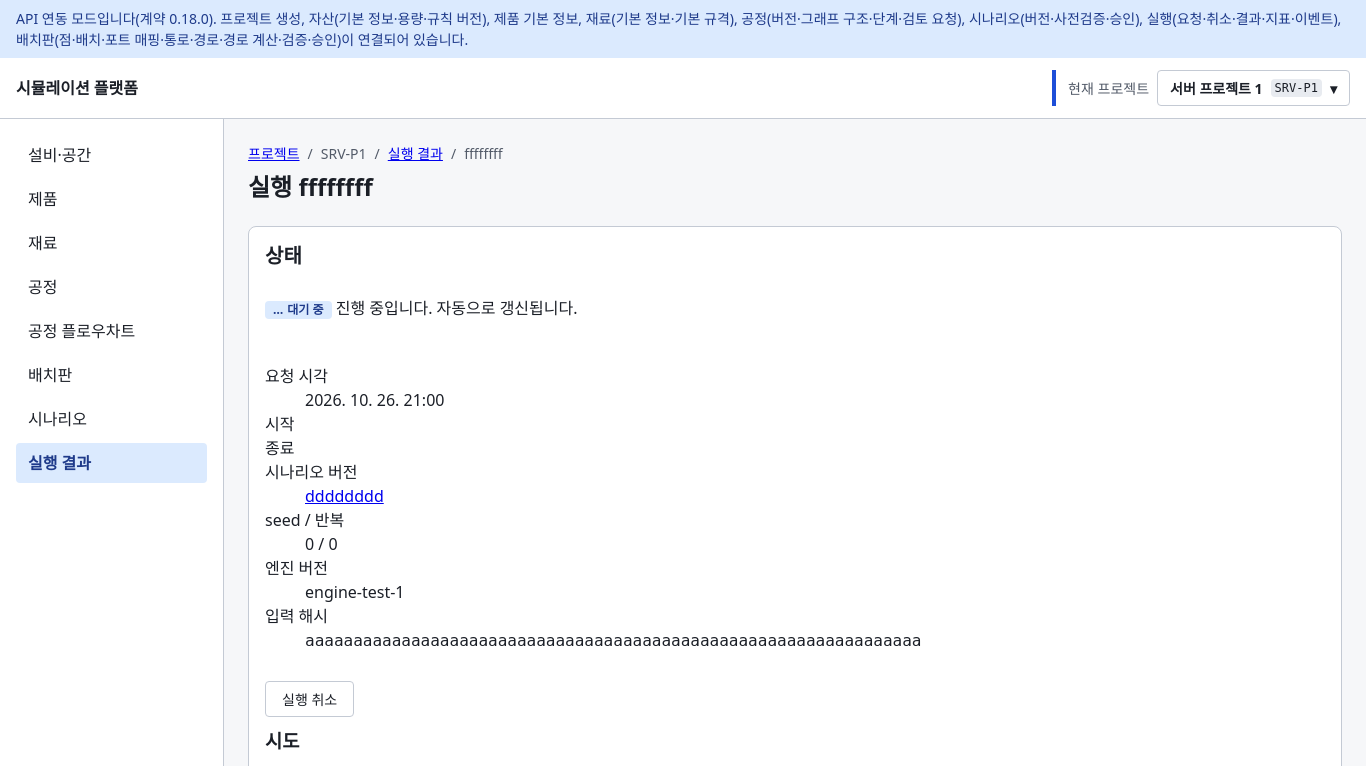
Test: API 모드: 실행 취소 › 이미 끝난 실행을 취소하려 하면(409) 서버 상태로 안내한다
Step 1. Click the button "실행 취소" → (310, 699), box [265,681,354,717]
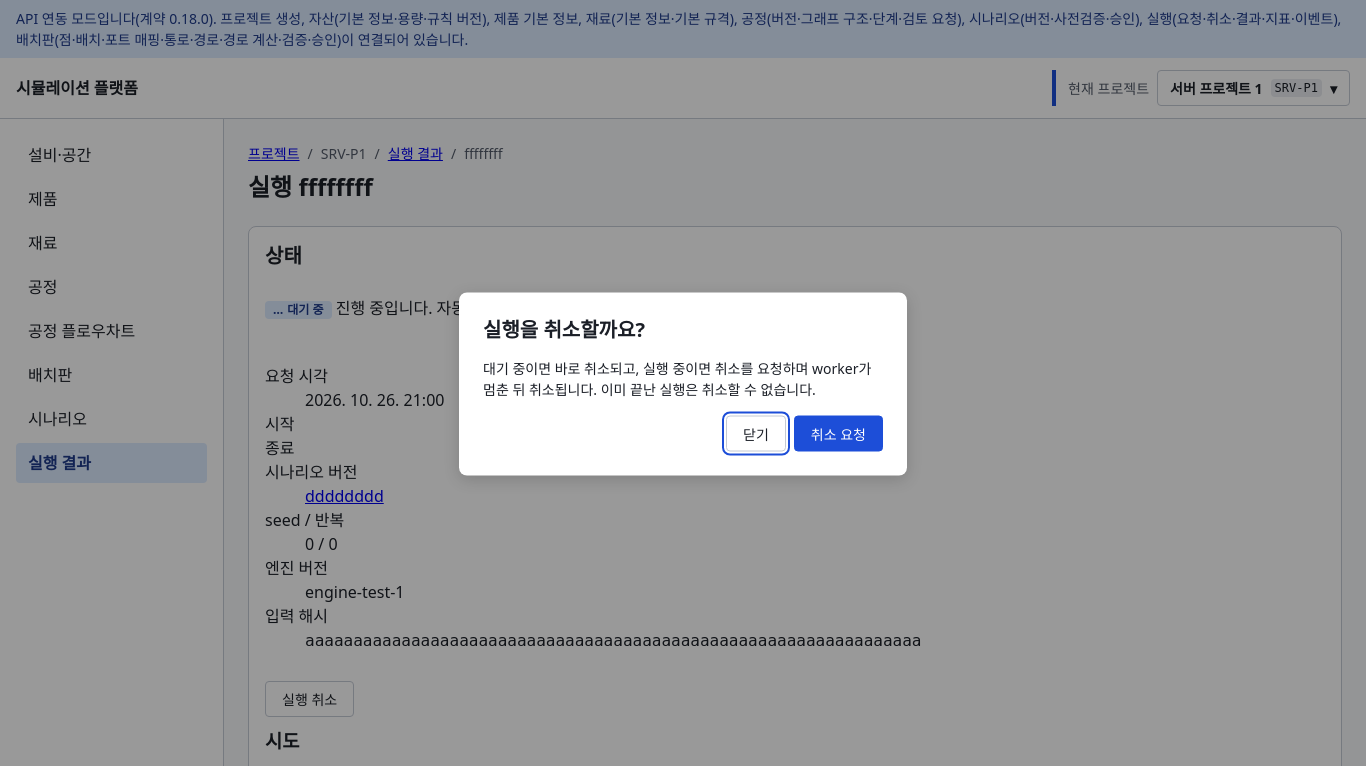
Step 2. Click the button "취소 요청" → (838, 434), box [794,416,883,452]
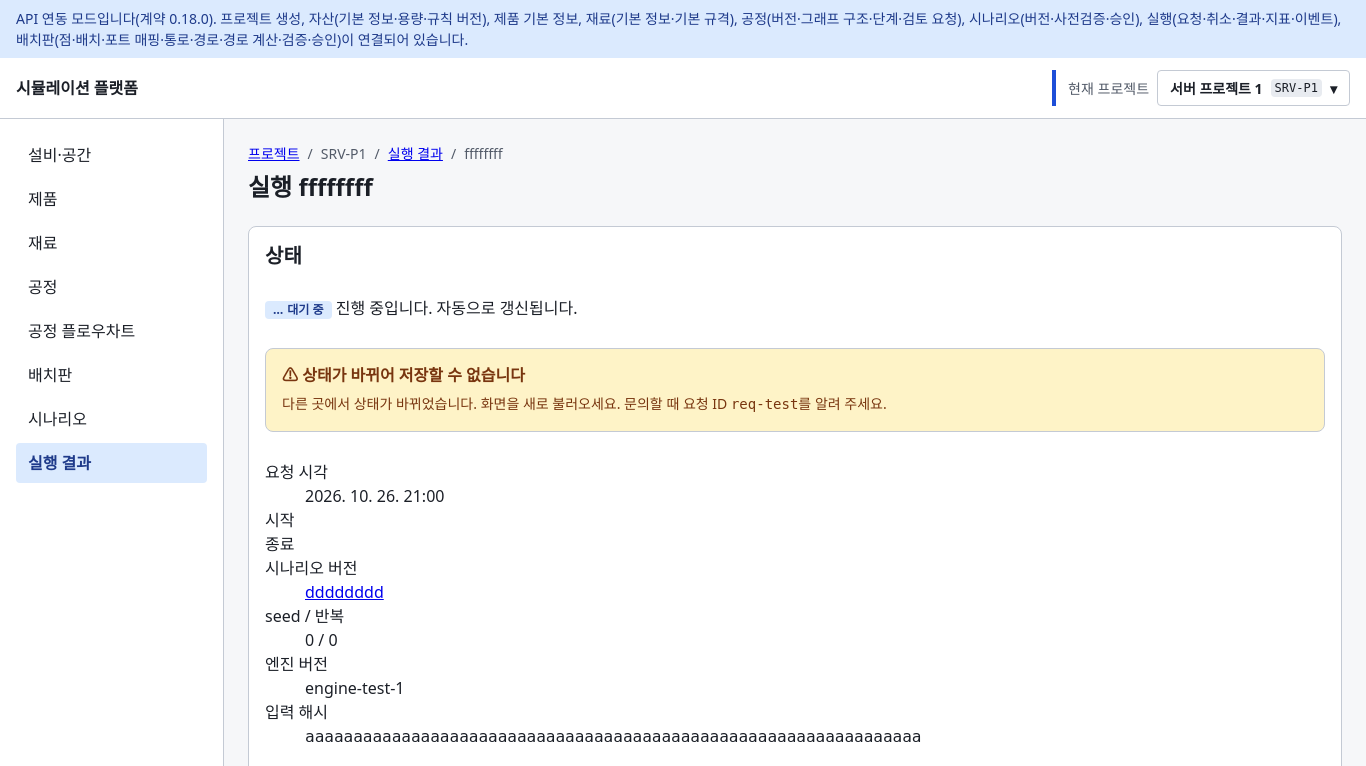
Expected: the heading "⚠ 상태가 바뀌어 저장할 수 없습니다" is shown, [282,364,525,386]
